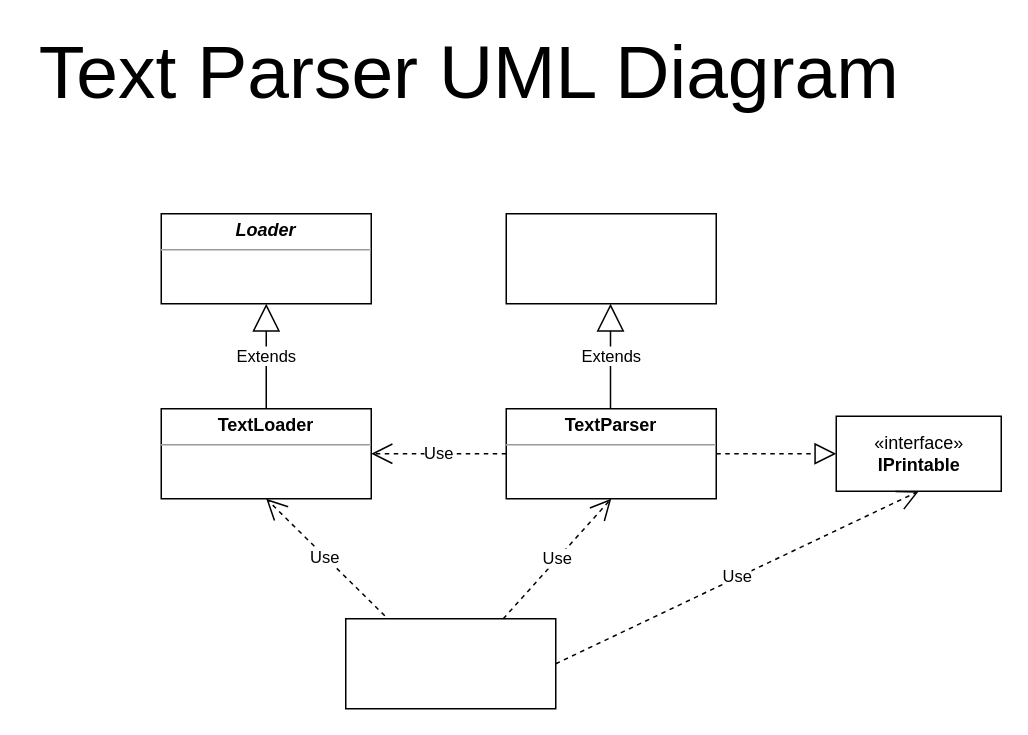
Some shapes in this 1028 by 735 pixel diagram are drawn without their labels. Here are the shapes that lost their labels. From the top down, the box of each, then its label:
(505, 212, 716, 304): Parser
(344, 617, 556, 709): Runner
